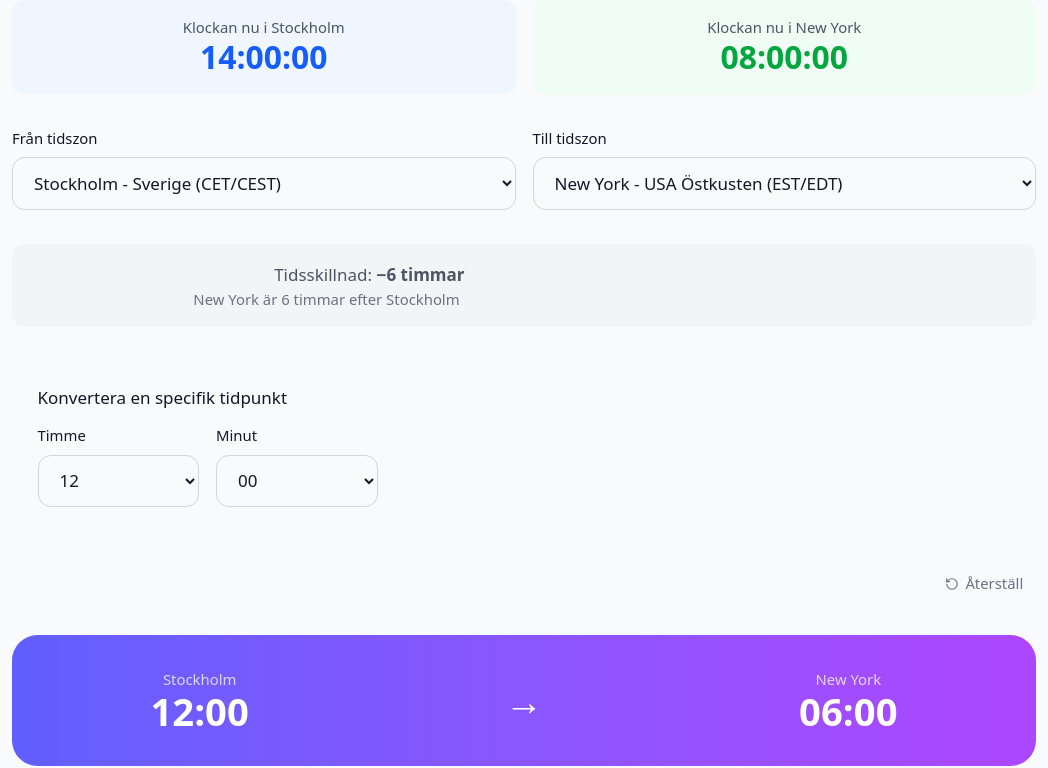
Test: tidsforskellen og den delte tekst i TidszoneBeregner › svensk tekst skriver også brudtal med komma
Select "Mumbai - Indien (IST)" in the dropdown labelled "Till tidszon". click: x=784, y=184
box: [532, 157, 1036, 210]
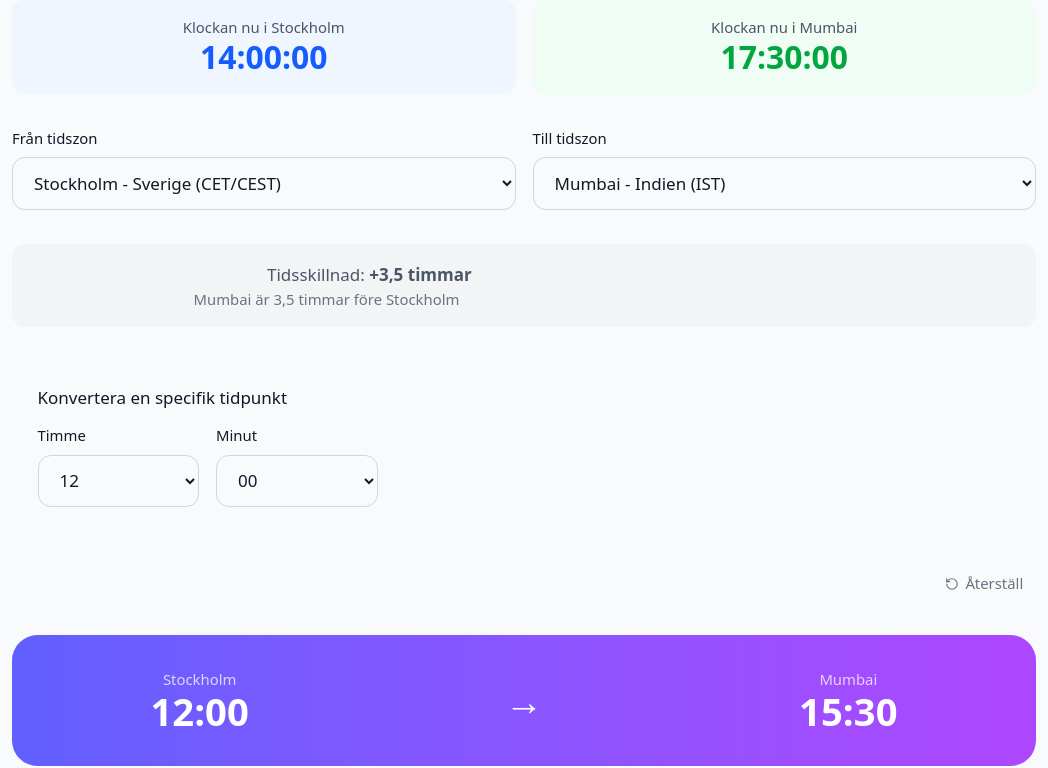
Result: the text "Mumbai är 3,5 timmar före Stockholm" is shown at [194, 289, 459, 309]
